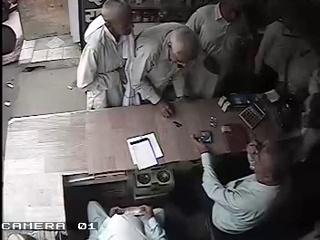Normal: (193, 128, 295, 240), (182, 1, 267, 100), (122, 22, 201, 118), (86, 200, 168, 240)
shoplifting: (76, 1, 136, 110)
